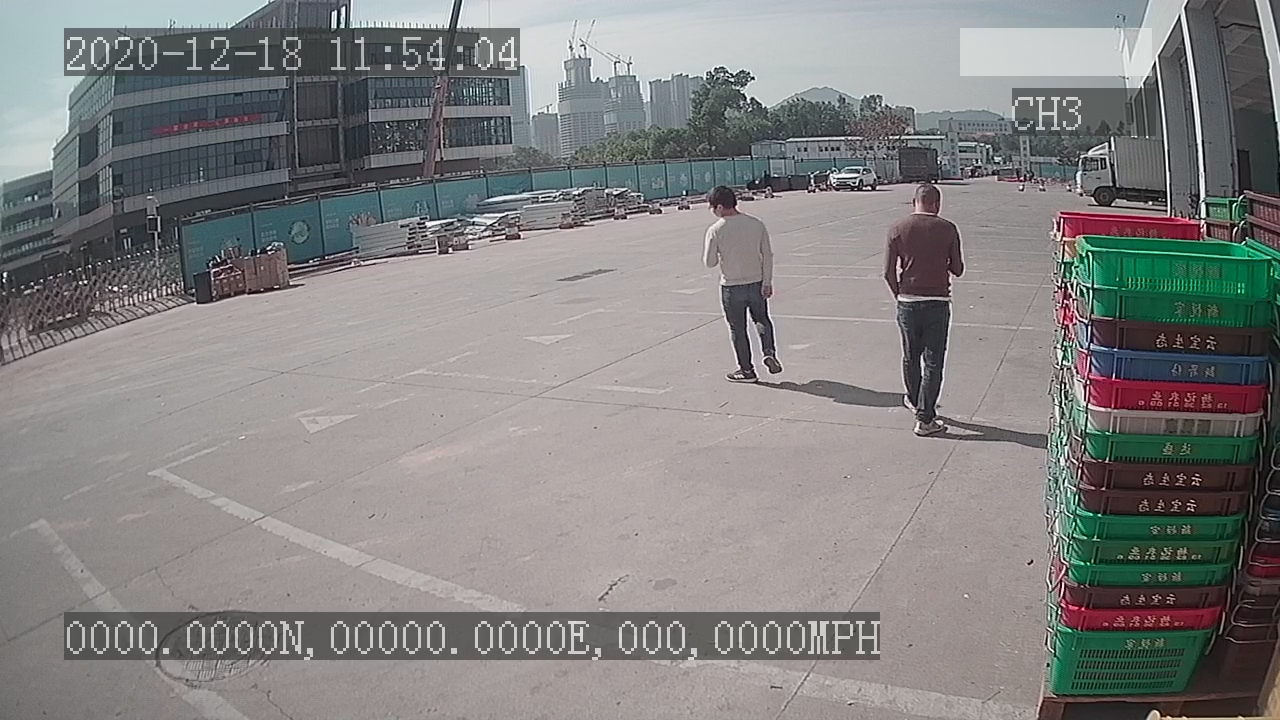person: (874, 181, 970, 447), (697, 185, 790, 388)
